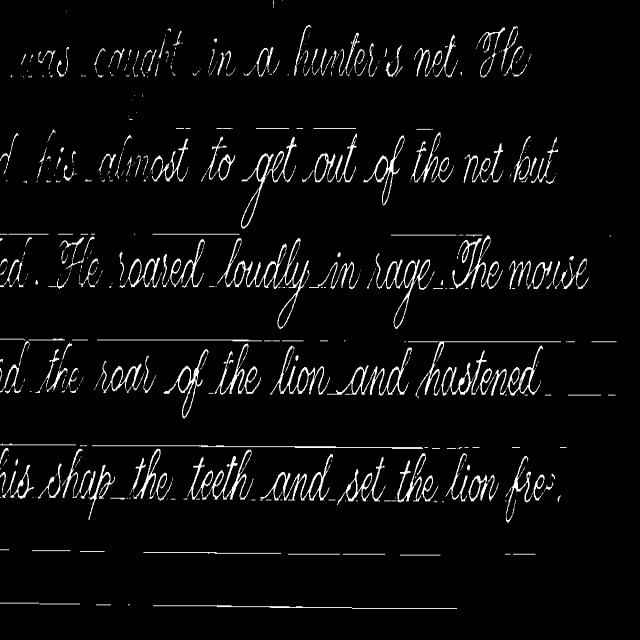noise: (0, 442, 482, 452), (150, 601, 456, 612), (140, 546, 388, 557), (404, 340, 562, 351), (94, 338, 304, 343), (390, 232, 490, 241), (510, 441, 571, 453), (29, 547, 108, 555), (91, 598, 134, 611), (390, 548, 442, 558), (0, 601, 82, 607), (0, 337, 66, 343), (152, 232, 240, 236), (0, 231, 51, 237), (501, 548, 536, 556), (319, 335, 346, 344), (82, 170, 96, 183), (68, 338, 90, 346), (564, 333, 576, 344), (590, 340, 616, 344), (256, 126, 290, 129), (18, 175, 28, 185), (312, 127, 356, 129), (0, 544, 10, 552), (56, 232, 74, 236), (416, 128, 433, 132), (80, 232, 94, 236), (110, 497, 124, 500), (216, 127, 233, 129), (168, 496, 176, 500), (176, 127, 191, 129), (296, 127, 304, 129), (382, 499, 394, 500)
not-noise: (19, 32, 532, 115), (216, 236, 310, 329), (452, 236, 588, 290), (270, 344, 412, 395), (418, 341, 543, 396), (36, 448, 114, 518), (241, 136, 296, 228), (367, 253, 434, 328), (118, 238, 205, 287), (98, 136, 188, 181), (186, 450, 254, 500), (260, 453, 332, 500), (506, 456, 556, 522), (166, 349, 208, 418), (210, 341, 263, 394), (302, 133, 357, 182), (120, 449, 173, 498), (366, 136, 404, 204), (478, 26, 529, 76), (446, 452, 498, 501), (214, 343, 261, 394), (337, 456, 386, 503), (410, 132, 454, 182), (56, 235, 98, 287), (512, 136, 558, 183), (394, 452, 438, 501), (40, 342, 82, 393), (98, 356, 155, 393), (37, 131, 76, 182), (0, 445, 34, 499), (0, 234, 32, 287), (464, 143, 506, 182), (201, 135, 235, 180), (318, 260, 360, 289), (0, 465, 34, 499), (100, 364, 142, 391), (36, 129, 54, 181), (0, 133, 18, 174), (0, 358, 19, 392), (0, 361, 20, 392), (395, 260, 420, 284), (178, 366, 202, 391), (86, 258, 101, 286), (63, 151, 76, 181), (564, 392, 616, 396), (20, 341, 28, 360), (20, 346, 24, 359), (545, 393, 556, 396), (557, 495, 561, 502), (128, 116, 133, 121), (337, 252, 340, 260), (36, 279, 38, 284)
